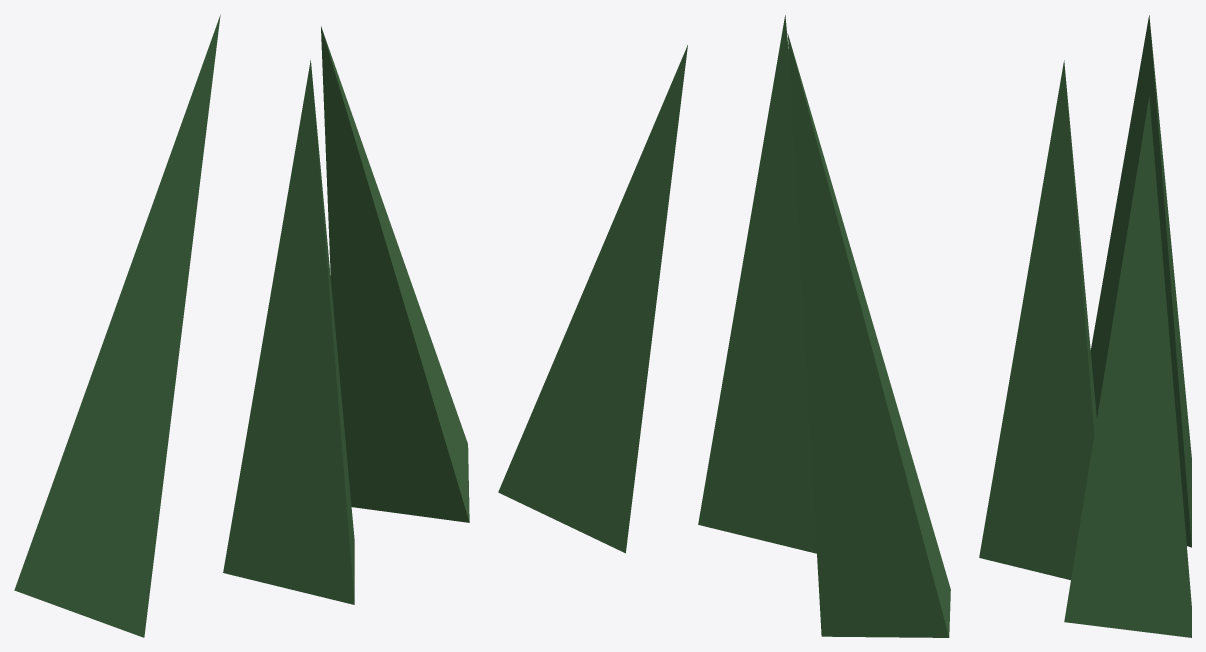
The model's file is grassTuft.glb.
The picture shows the model from 3 angles, left to right: view 1: azimuth 30°, elevation 25°; view 2: azimuth 150°, elevation 25°; view 3: azimuth 270°, elevation 25°; orthographic projection. The views are drawn at different scales.
Visible parts, largest first — view 1: n1, n2, n3; view 2: n1, n3, n2; view 3: n3, n2, n1.
Boxes of the visible parts, x1=… form: n1: x1=14, y1=14, x2=220, y2=637; n2: x1=223, y1=59, x2=354, y2=604; n3: x1=321, y1=26, x2=469, y2=522; n1: x1=787, y1=33, x2=950, y2=637; n3: x1=498, y1=45, x2=687, y2=553; n2: x1=698, y1=15, x2=816, y2=553; n3: x1=1064, y1=97, x2=1191, y2=637; n2: x1=979, y1=60, x2=1096, y2=580; n1: x1=1090, y1=15, x2=1191, y2=547.
Size of the model in its own units: 0.2986 by 0.3632 by 0.125.
